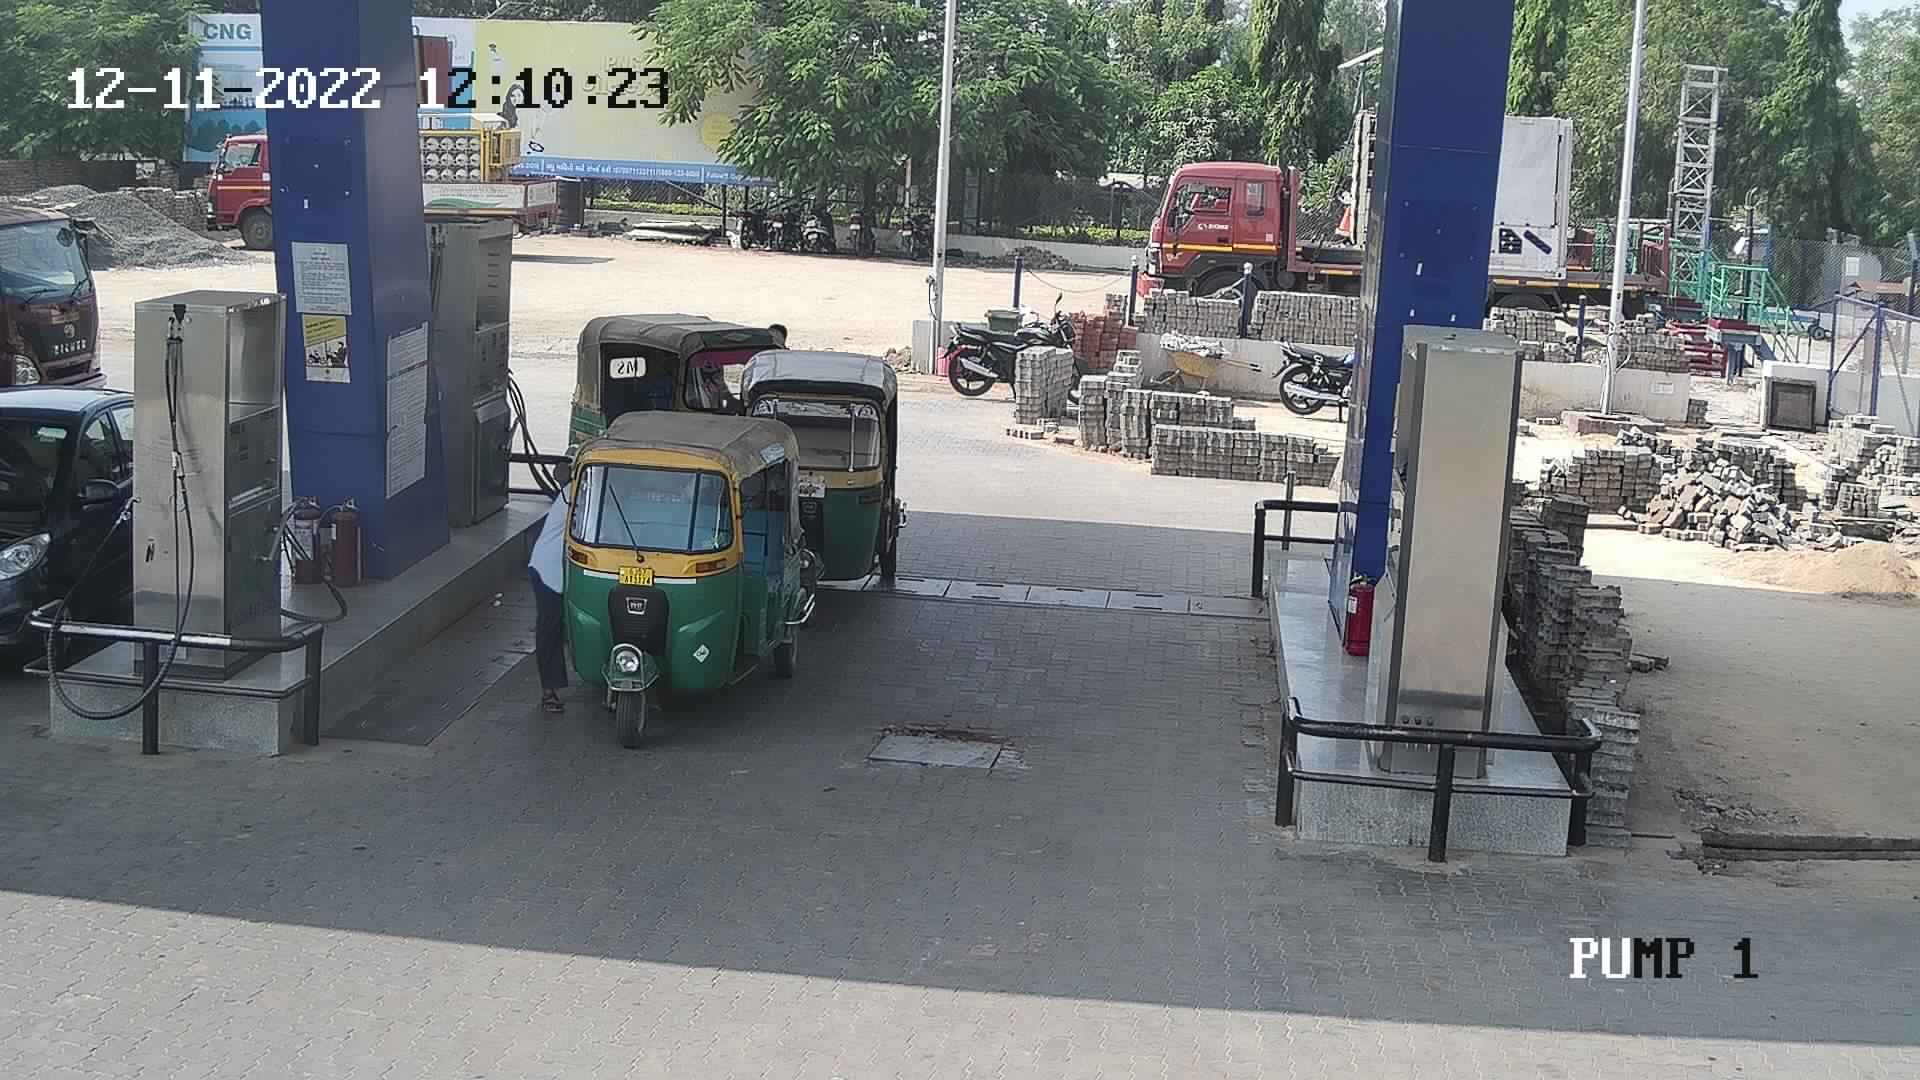Auto: (535, 397, 819, 725), (719, 339, 914, 607), (566, 301, 795, 483), (0, 208, 112, 402)
Bike: (928, 291, 1098, 417), (1265, 330, 1361, 422), (731, 171, 777, 248), (893, 191, 938, 262), (796, 187, 841, 258), (841, 186, 885, 255), (767, 182, 808, 251)
Car: (0, 371, 160, 678)
HMV: (1124, 90, 1386, 342), (411, 90, 571, 251)
